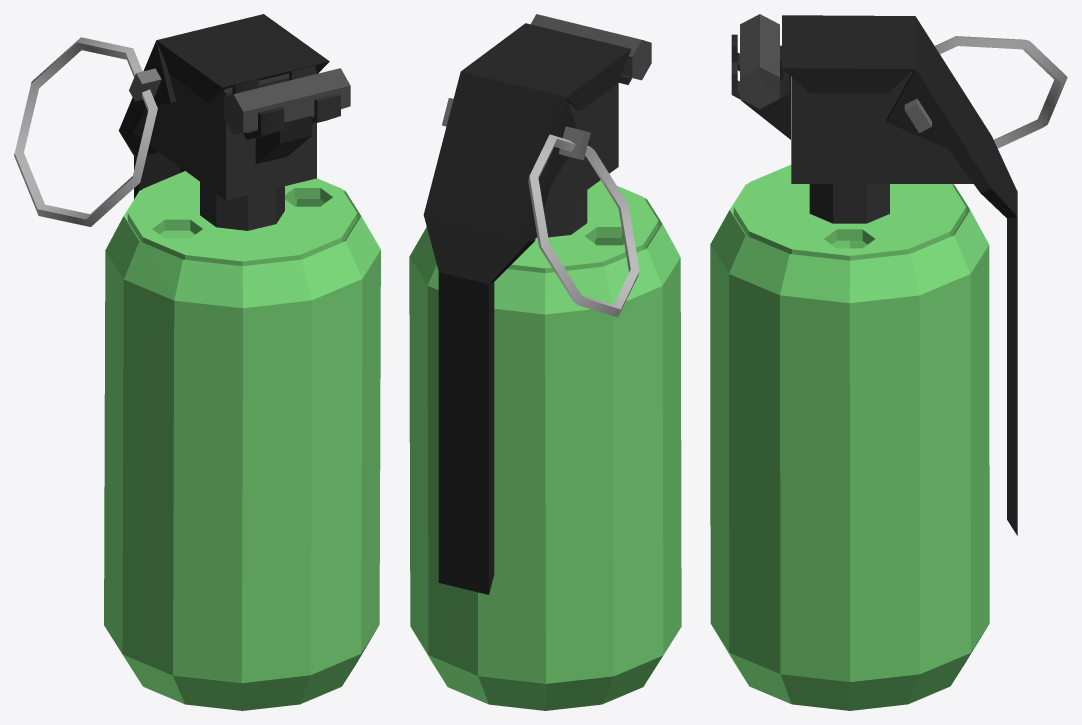
File: Gas1.FBX
3 views of the same model, side by side, from view 1: azimuth 30°, elevation 25°; view 2: azimuth 150°, elevation 25°; view 3: azimuth 270°, elevation 25° (orthographic). The views are drawn at different scales.
Visible parts, largest first — view 1: Cylinder017, Sphere012, Object030, Object031; view 2: Cylinder017, Sphere012, Object030, Object031; view 3: Cylinder017, Sphere012, Object030, Object031.
Boxes of the visible parts, bbox=[...] form: Cylinder017: bbox=[104, 171, 380, 710]; Sphere012: bbox=[119, 14, 350, 230]; Object030: bbox=[14, 37, 157, 226]; Object031: bbox=[129, 68, 161, 101]; Cylinder017: bbox=[409, 180, 681, 710]; Sphere012: bbox=[423, 14, 651, 594]; Object030: bbox=[528, 134, 639, 317]; Object031: bbox=[442, 98, 590, 160]; Cylinder017: bbox=[710, 165, 989, 710]; Sphere012: bbox=[731, 14, 1017, 535]; Object030: bbox=[935, 36, 1067, 148]; Object031: bbox=[904, 98, 931, 132].
Bounding box in the file's own units: 0.1348 × 0.3033 × 0.1582.
